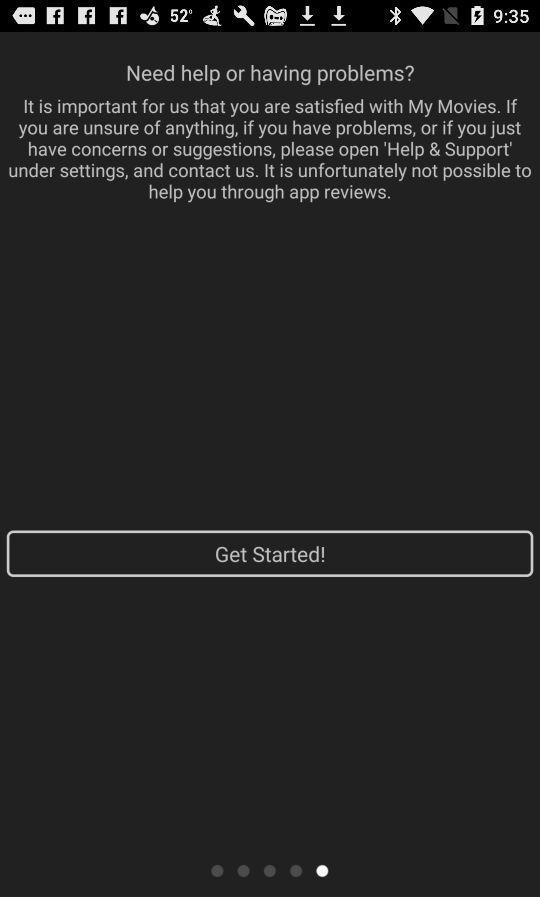PageIndicator: (209, 863, 331, 880)
Text: (9, 99, 532, 205), (127, 65, 415, 87)
TextButton: (7, 530, 534, 578)
UpperTaskBar: (1, 1, 540, 33)
